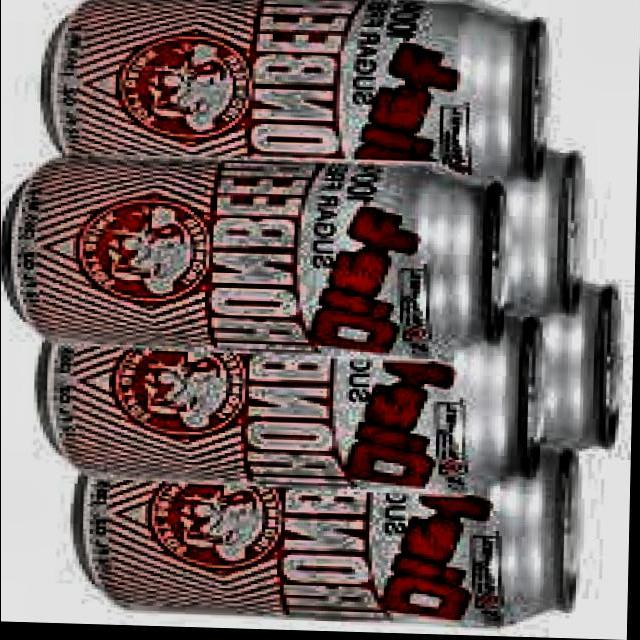Aluminum Can: (0, 150, 521, 364), (27, 294, 555, 505), (67, 424, 588, 633), (32, 0, 556, 184), (526, 270, 624, 457), (499, 137, 594, 325)
